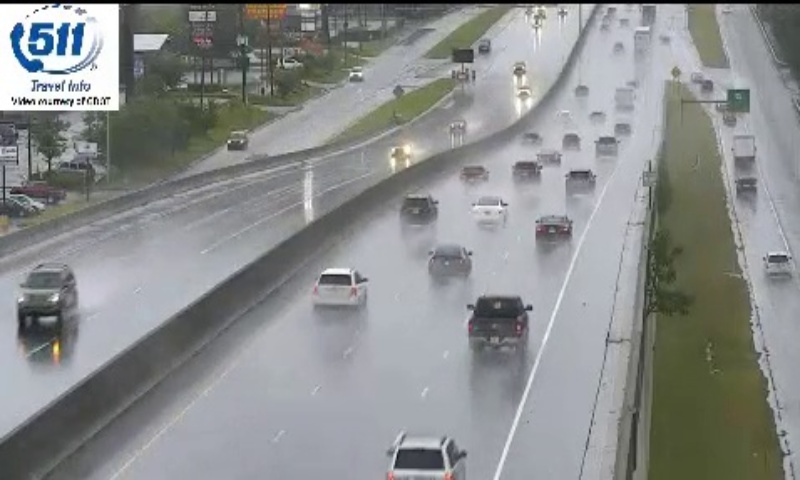car: (388, 434, 468, 480), (468, 297, 527, 350), (314, 268, 364, 310), (430, 245, 471, 278), (401, 192, 436, 224), (535, 215, 572, 243), (564, 169, 597, 192)
